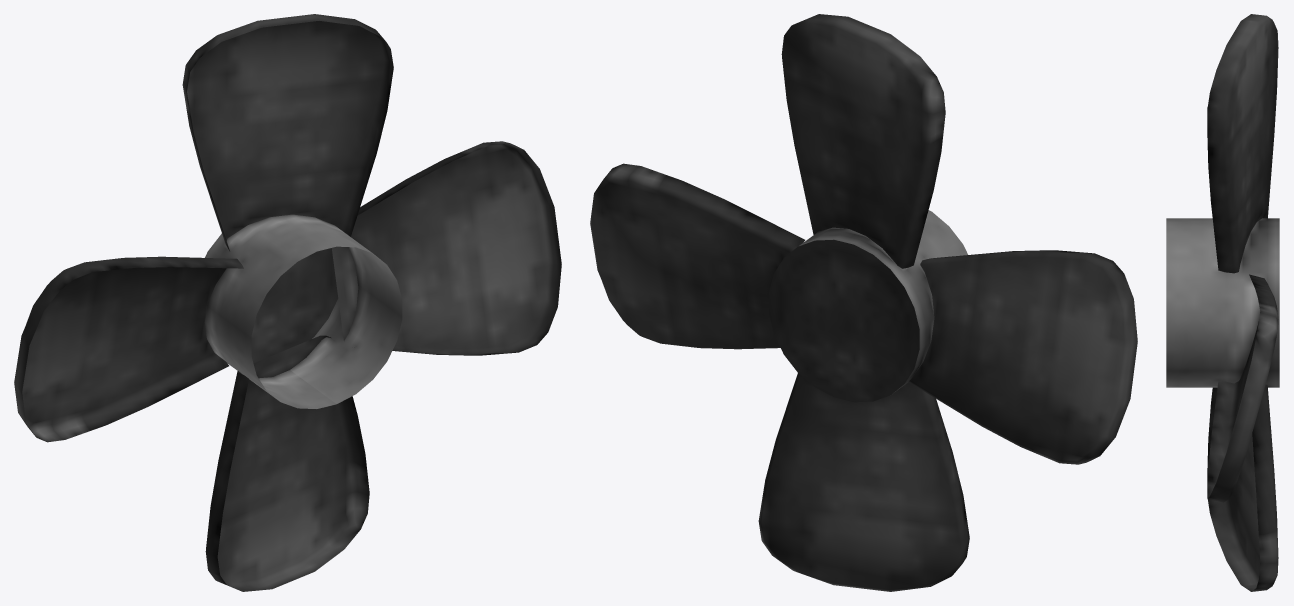
File: generator_habitat_fan.DAE
3 views of the same model, side by side, from view 1: azimuth 30°, elevation 25°; view 2: azimuth 150°, elevation 25°; view 3: azimuth 270°, elevation 25° (orthographic). The views are drawn at different scales.
Parts seen in each view (by area): view 1: generator_habitat_fan; view 2: generator_habitat_fan; view 3: generator_habitat_fan.
Boxes of the visible parts, box(x1,y1,x2,y2) form: generator_habitat_fan: box(14, 14, 561, 591); generator_habitat_fan: box(590, 14, 1137, 591); generator_habitat_fan: box(1166, 14, 1279, 591).
Bounding box in the file's own units: 96.17 × 18.38 × 96.17.
